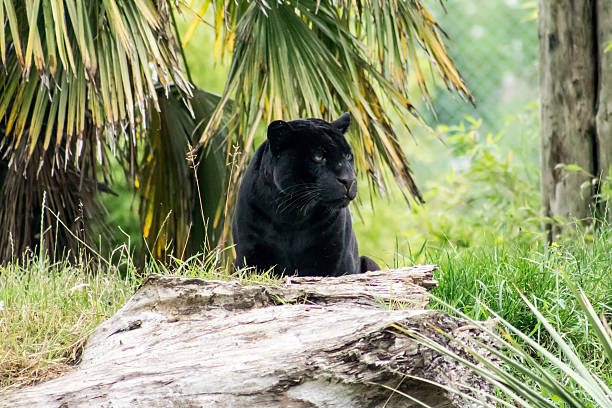panther: (249, 104, 381, 222)
